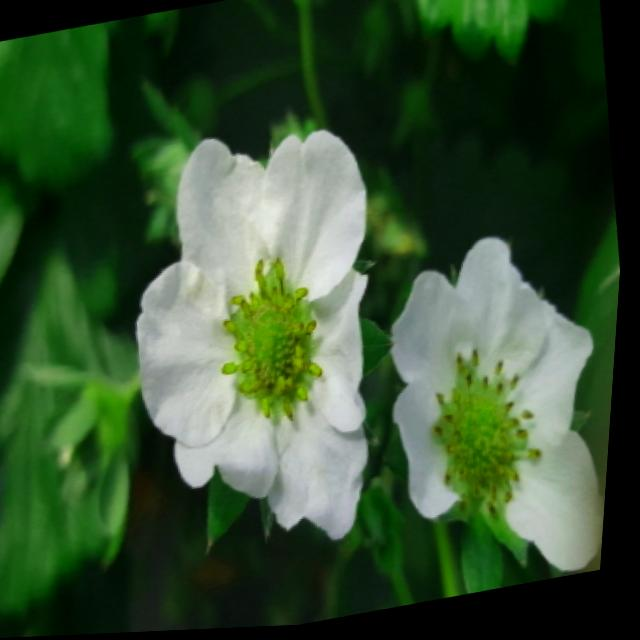Blossom Blight: (434, 350, 559, 527)
